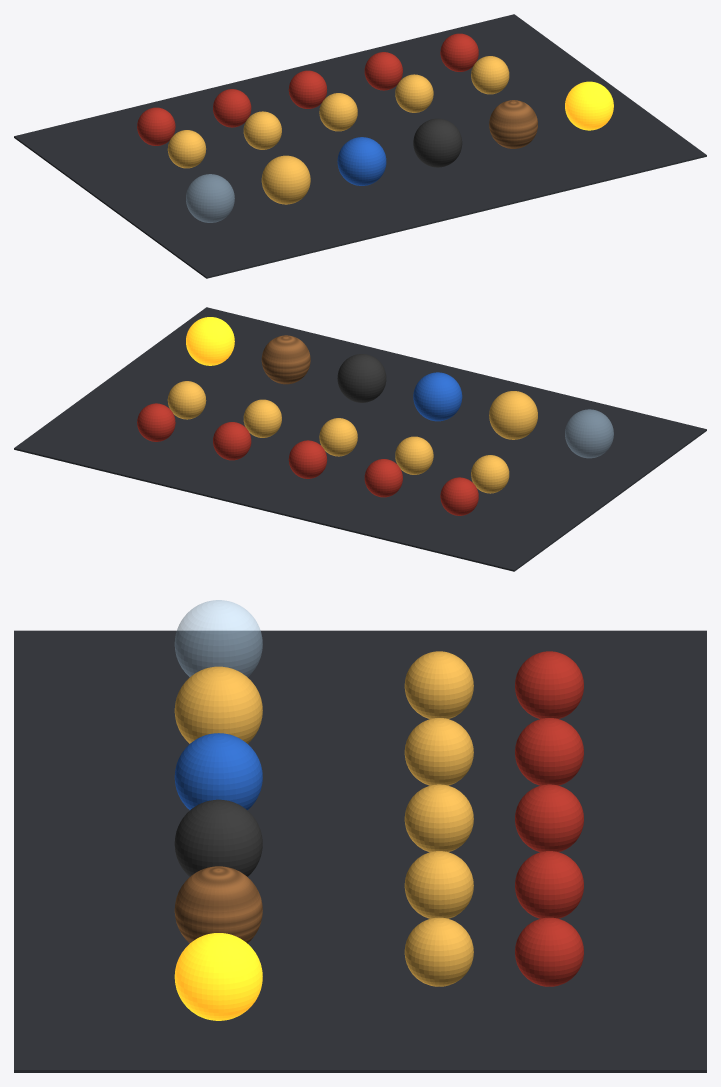
File: ish13.glb
3 views of the same model, one above another, from view 1: azimuth 30°, elevation 25°; view 2: azimuth 150°, elevation 25°; view 3: azimuth 270°, elevation 25° (orthographic). The views are drawn at different scales.
Visible parts, largest first — view 1: Pol, Mat_Nur, Mat_Tilla, Mat_Rezina, Mat_Plastik, Mat_Yogoch, Mat_Shisha, Metall_R0.5, Metall_R0, Metall_R0.75, Dielektrik_R0.25, Dielektrik_R0 (+5 smaller); view 2: Pol, Mat_Yogoch, Mat_Plastik, Mat_Rezina, Mat_Tilla, Mat_Nur, Mat_Shisha, Dielektrik_R1.0, Dielektrik_R0, Metall_R0.25, Dielektrik_R0.5, Metall_R0.5 (+5 smaller); view 3: Pol, Mat_Nur, Mat_Tilla, Mat_Rezina, Mat_Yogoch, Mat_Plastik, Mat_Shisha, Dielektrik_R1.0, Metall_R1.0, Metall_R0.75, Dielektrik_R0.25, Metall_R0.5 (+5 smaller).
Part boxes in pixels (x1=…): Pol: x1=14, y1=14, x2=706, y2=278; Mat_Nur: x1=565, y1=81, x2=613, y2=130; Mat_Tilla: x1=261, y1=155, x2=310, y2=204; Mat_Rezina: x1=413, y1=118, x2=462, y2=167; Mat_Plastik: x1=337, y1=137, x2=386, y2=185; Mat_Yogoch: x1=489, y1=100, x2=537, y2=148; Mat_Shisha: x1=186, y1=174, x2=234, y2=222; Metall_R0.5: x1=319, y1=93, x2=357, y2=131; Metall_R0: x1=167, y1=130, x2=206, y2=168; Metall_R0.75: x1=395, y1=74, x2=433, y2=112; Dielektrik_R0.25: x1=213, y1=89, x2=251, y2=127; Dielektrik_R0: x1=137, y1=107, x2=175, y2=145; Pol: x1=14, y1=307, x2=706, y2=571; Mat_Yogoch: x1=261, y1=335, x2=310, y2=384; Mat_Plastik: x1=413, y1=372, x2=462, y2=421; Mat_Rezina: x1=337, y1=354, x2=386, y2=402; Mat_Tilla: x1=489, y1=391, x2=537, y2=439; Mat_Nur: x1=186, y1=317, x2=234, y2=365; Mat_Shisha: x1=565, y1=409, x2=613, y2=458; Dielektrik_R1.0: x1=137, y1=403, x2=175, y2=441; Dielektrik_R0: x1=440, y1=477, x2=478, y2=515; Metall_R0.25: x1=395, y1=436, x2=433, y2=474; Dielektrik_R0.5: x1=288, y1=440, x2=327, y2=478; Metall_R0.5: x1=319, y1=418, x2=357, y2=456; Pol: x1=14, y1=630, x2=706, y2=1072; Mat_Nur: x1=174, y1=933, x2=262, y2=1020; Mat_Tilla: x1=174, y1=666, x2=262, y2=743; Mat_Rezina: x1=174, y1=799, x2=262, y2=876; Mat_Yogoch: x1=174, y1=866, x2=262, y2=943; Mat_Plastik: x1=174, y1=733, x2=262, y2=810; Mat_Shisha: x1=174, y1=600, x2=262, y2=676; Dielektrik_R1.0: x1=515, y1=917, x2=583, y2=986; Metall_R1.0: x1=404, y1=917, x2=473, y2=986; Metall_R0.75: x1=404, y1=851, x2=473, y2=918; Dielektrik_R0.25: x1=515, y1=718, x2=583, y2=785; Metall_R0.5: x1=404, y1=784, x2=473, y2=852.
Bounding box in the file's own units: 3.3 × 0.29 × 2.2.
Materials: 17 (1 with a texture image).
